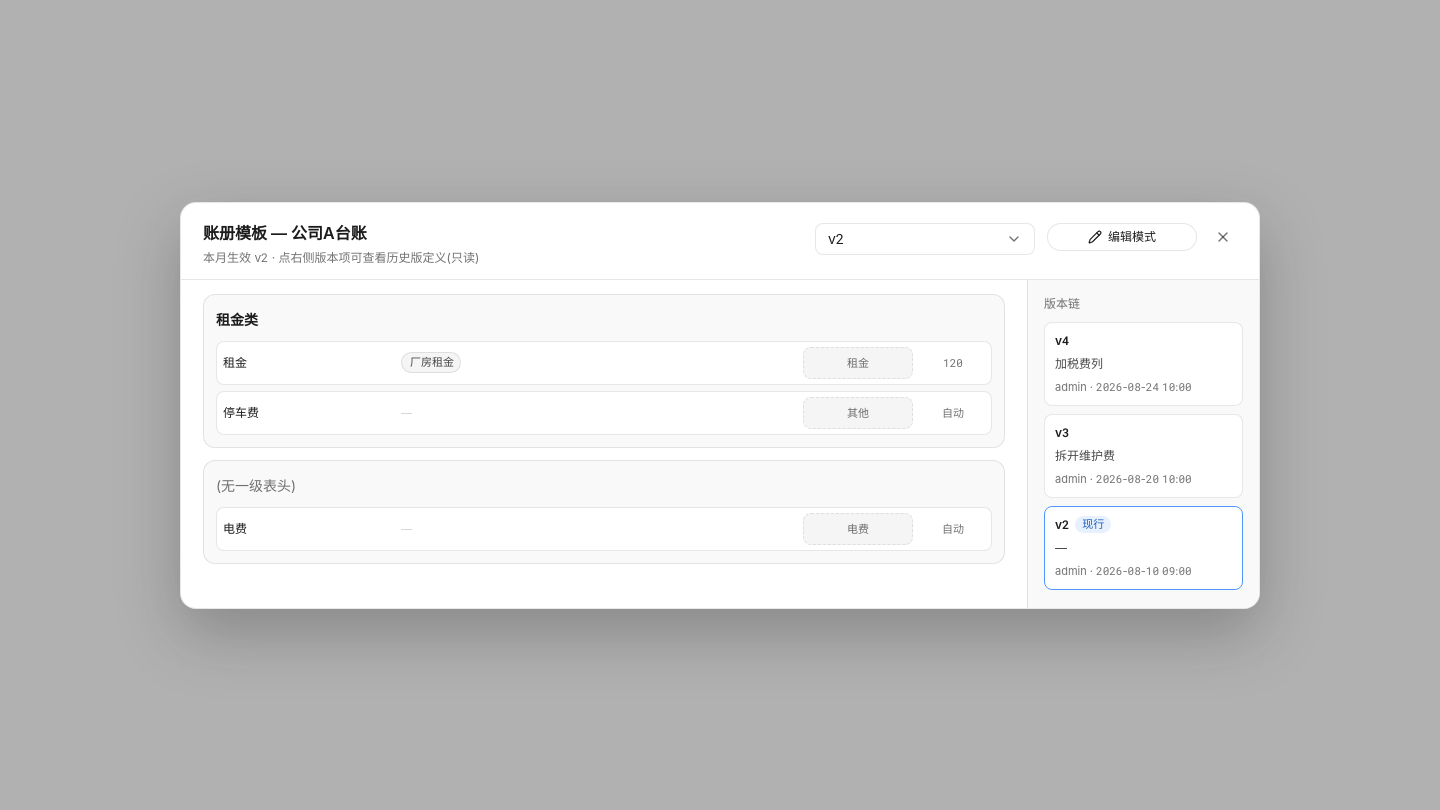
Test: TemplateEditorPanel · 编辑态 › 本月生效版落后于链尾时,提示条按链尾+1 报数
Click the button with class "te-editbtn".
click(1122, 236)  # box x1=1047 y1=222 x2=1197 y2=250
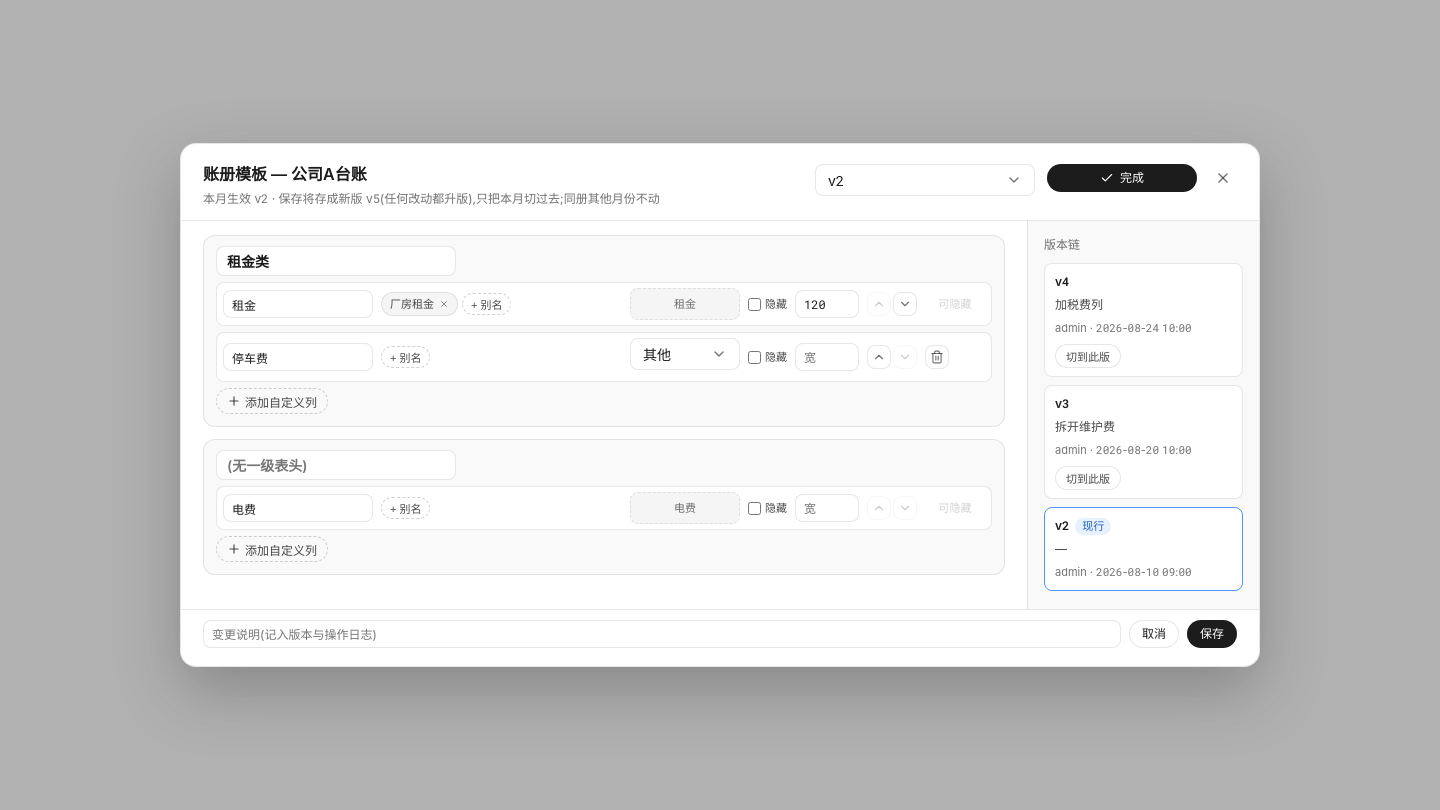
Check: the text with class "te-sub-edit" shows "存成新版 v5", box x1=203 y1=191 x2=660 y2=206
